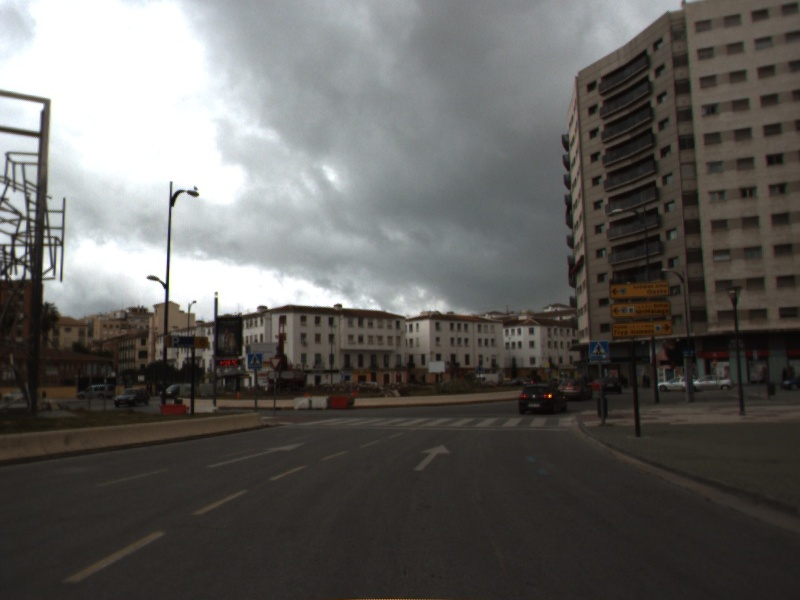STRAIGHT: (204, 440, 308, 470), (411, 443, 453, 473)
